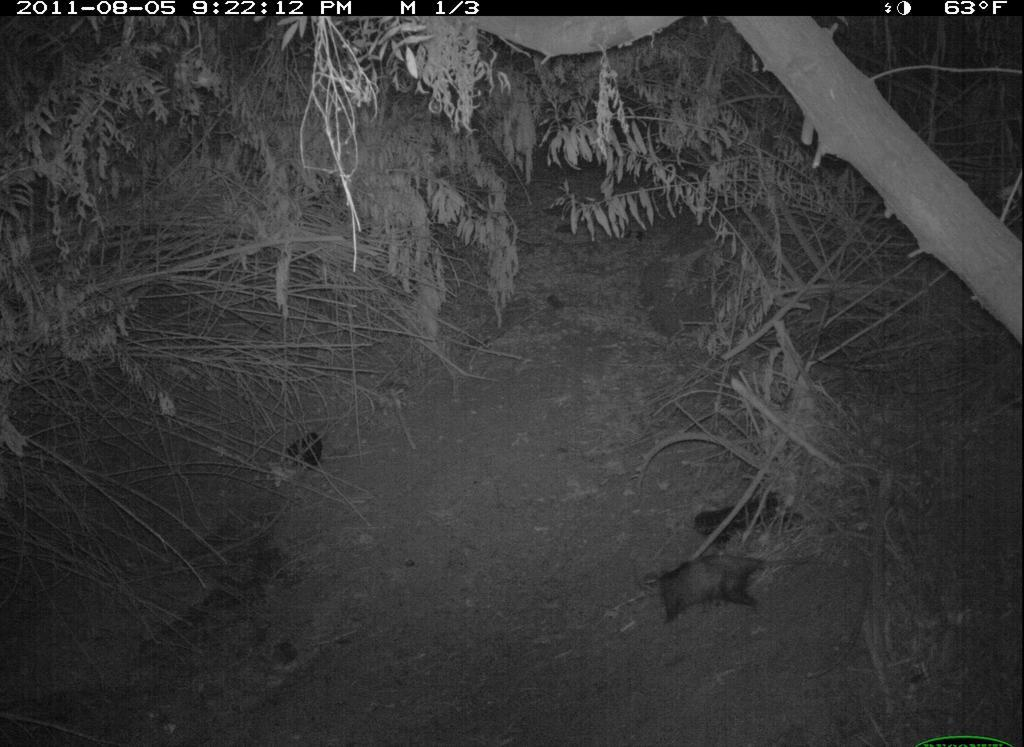opossum: (634, 550, 830, 633)
